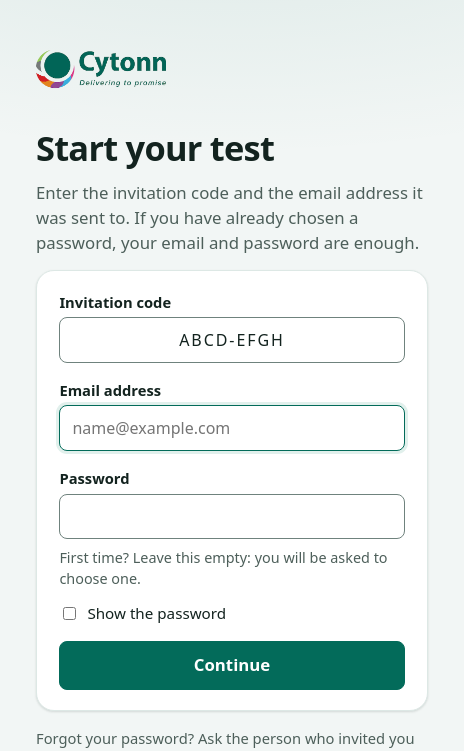
Start › passwords › asks the candidate to choose a password when the server says it is their first time
In the field with id "email": (232, 428) 59,406 -> 405,451, type "ada@example.org"
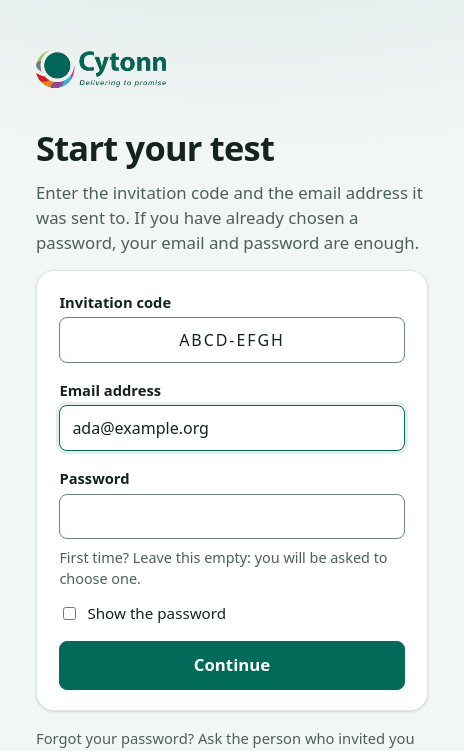
Submit the form, box 36,270 -> 428,711
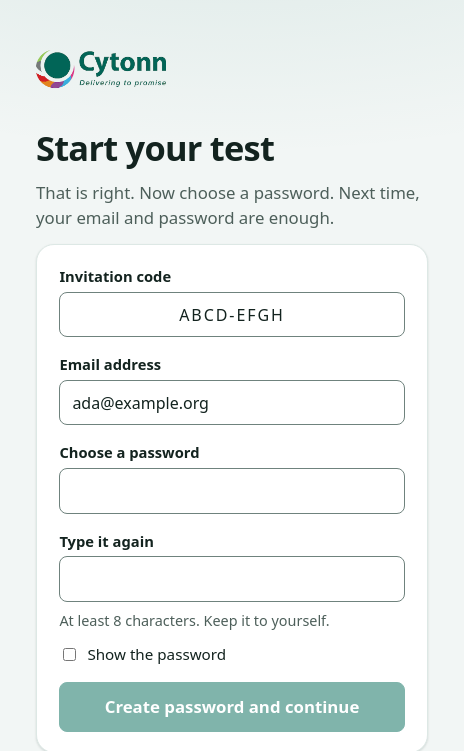
Now the text "Now choose a password" is shown, box 36,181 -> 420,229
Now the password field with id "new-password" is shown, box 59,468 -> 405,514
Now the submit button reads "Create password and continue", box 59,682 -> 405,732
